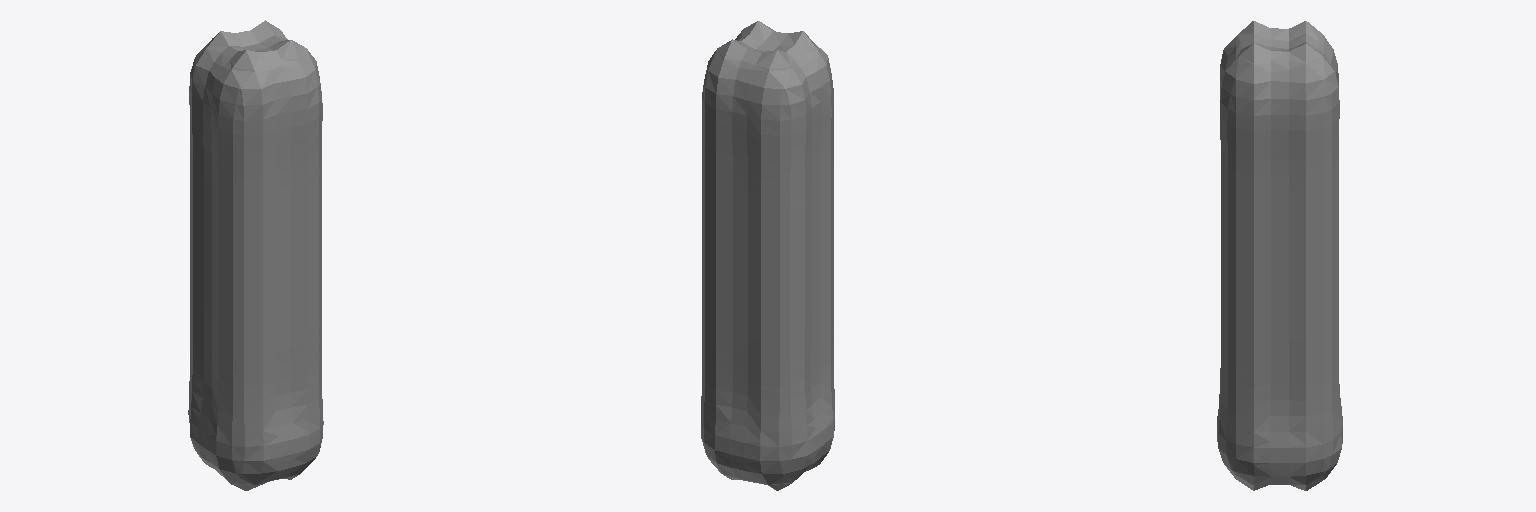
robot.urdf — cube.urdf:
<?xml version="0.0" ?> 
<robot name="cube.urdf"> 
<link name="legobrick"> 
<contact> 
<lateral_friction value="5.0"/> 
<rolling_friction value="0.0"/> 
<contact_cfm value="0.0"/> 
<contact_erp value="1.0"/> 
</contact> 
<inertial> 
<origin rpy="0 0 0" xyz="0.0 0.0 0.0"/> 
<mass value=".01"/> 
<inertia ixx="1" ixy="0" ixz="0" iyy="1" iyz="0" izz="1"/> 
</inertial> 
<visual> 
<origin rpy="1.570796 0 0" xyz="-0.05789828703752482 0.05782891158574776 -0.06499417833458324"/> 
<geometry> 
<mesh filename="T11_0.obj" scale="0.001 0.001 0.001"/> 
</geometry> 
<material name="yellow"> 
<color rgba="0.6 0.6 0.6 1"/> 
</material> 
</visual> 
<collision> 
<origin rpy="1.570796 0 0" xyz="-0.05789828703752482 0.05782891158574776 -0.06499417833458324"/> 
<geometry> 
<mesh filename="T11_0.obj" scale="0.001 0.001 0.001"/> 
</geometry> 
</collision> 
</link> 
</robot>

--- Render facts (derived) ---
Views: 3 orthographic renders of the robot side by side, from view 1: azimuth 30°, elevation 25°; view 2: azimuth 150°, elevation 25°; view 3: azimuth 270°, elevation 25°.
Robot: cube.urdf — 1 links, 0 joints (none); root link legobrick; default pose: all joints at 0.
Links seen in each view (by area): view 1: legobrick; view 2: legobrick; view 3: legobrick.
Link boxes in pixels (x1,y1,x2,y2): legobrick: [188, 20, 323, 490]; legobrick: [701, 21, 834, 490]; legobrick: [1217, 21, 1342, 490].
Bounding box of the posed robot: 0.0255 × 0.0254 × 0.1 m (x, y, z).
1 mesh visuals loaded from 1 distinct referenced files (1 OBJ).
